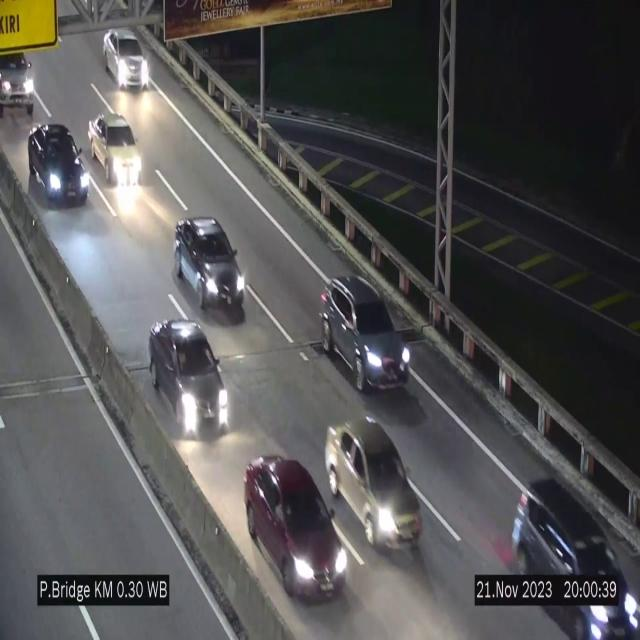Car: (509, 467, 640, 640), (253, 452, 349, 607), (325, 418, 423, 559), (151, 316, 233, 444), (319, 277, 411, 391), (175, 217, 245, 316), (30, 116, 90, 205), (91, 103, 139, 197), (0, 49, 44, 122), (104, 28, 146, 88)
